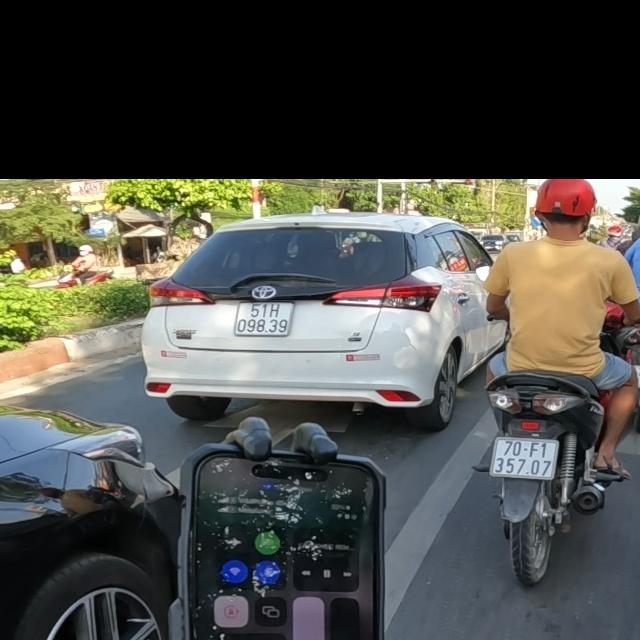license-plate: (487, 436, 561, 481), (233, 299, 294, 337)
